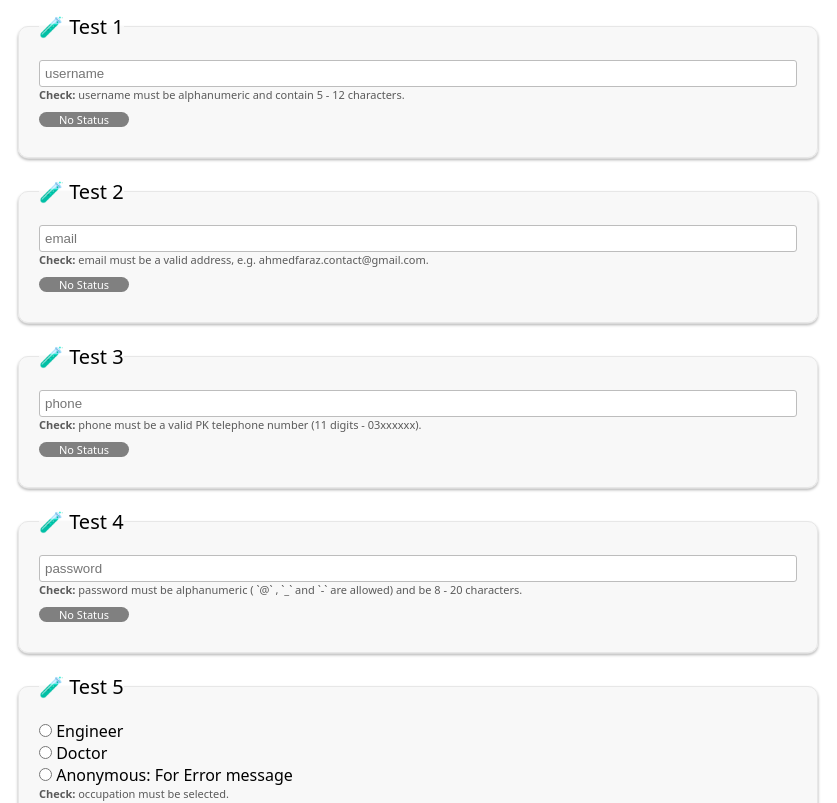
Test: Form Component › should have username section working fine
Expected: the text with test id "username-badge" is shown, [39,112,129,127]
Expected: the text with test id "username-badge" reads "No Status", [59,112,109,127]
Type "abc" into the field with test id "username" at (418, 74), box [39,60,797,87]
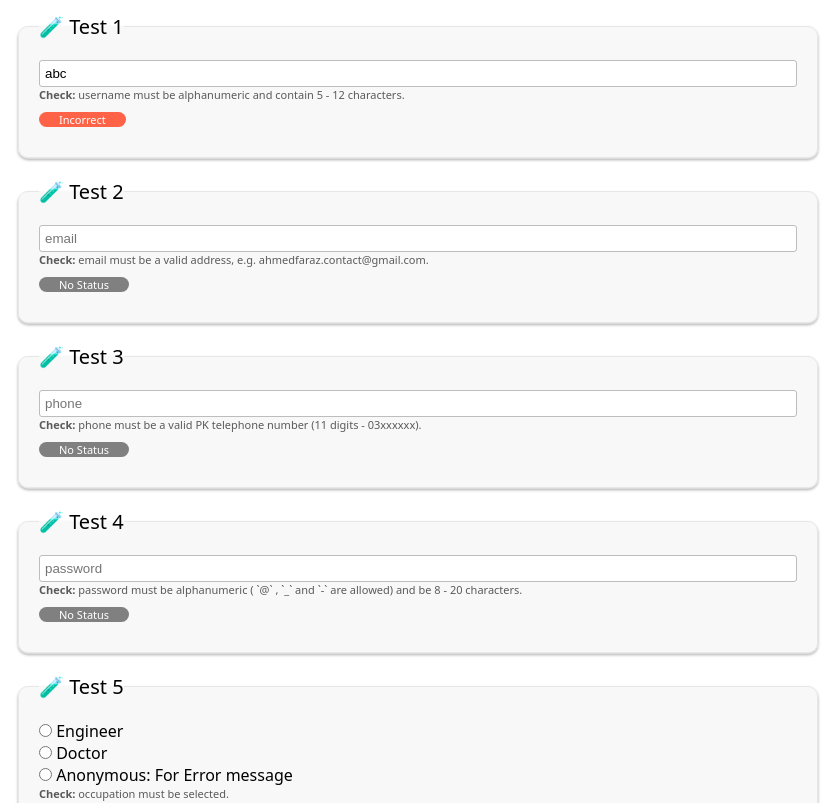
Expected: the text with test id "username-badge" reads "Incorrect", [59,112,106,127]
Replace the text in the field with test id "username" with "ahmed" at (418, 74), box [39,60,797,87]
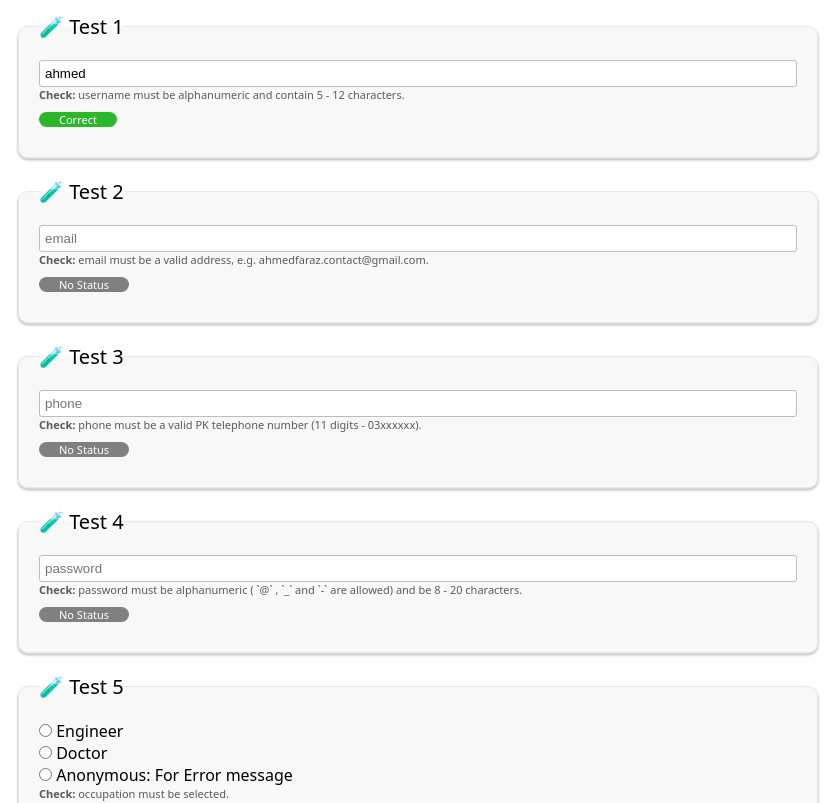
Expected: the text with test id "username-badge" reads "Correct", [59,112,97,127]
Replace the text in the field with test id "username" with "ahmed01" at (418, 74), box [39,60,797,87]
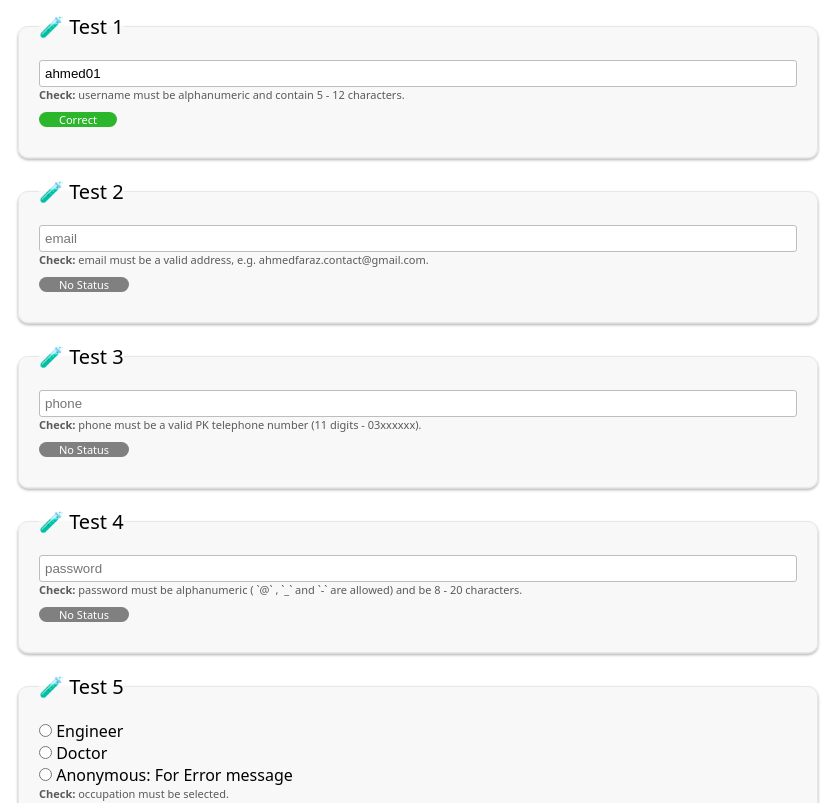
Expected: the text with test id "username-badge" reads "Correct", [59,112,97,127]
Replace the text in the field with test id "username" with "ahmed-faraz-12345" at (418, 74), box [39,60,797,87]
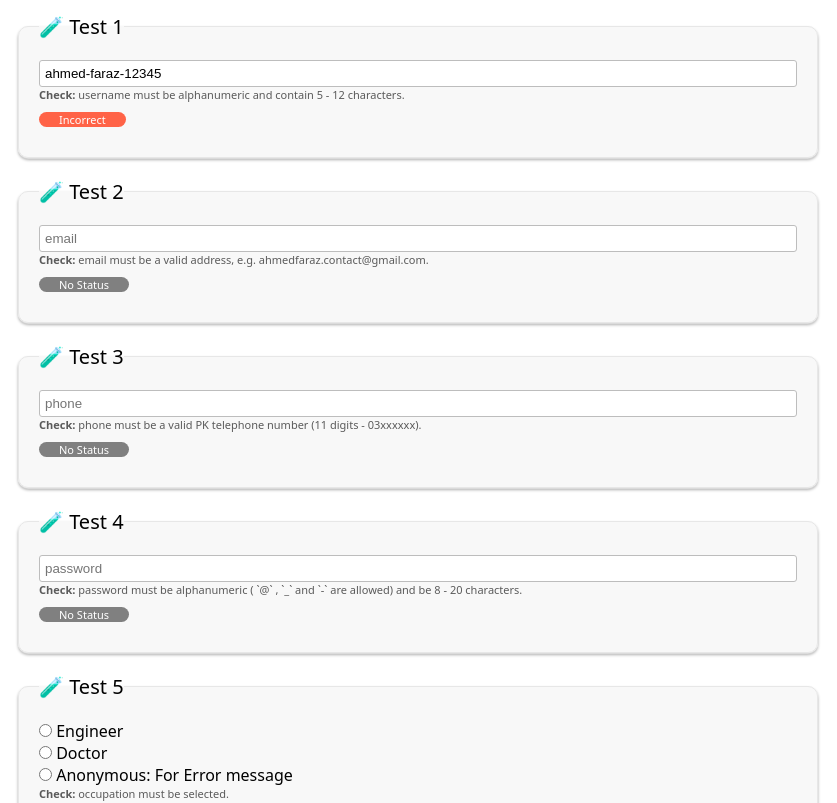
Expected: the text with test id "username-badge" reads "Incorrect", [59,112,106,127]
Clear the field with test id "username" at (418, 74), box [39,60,797,87]
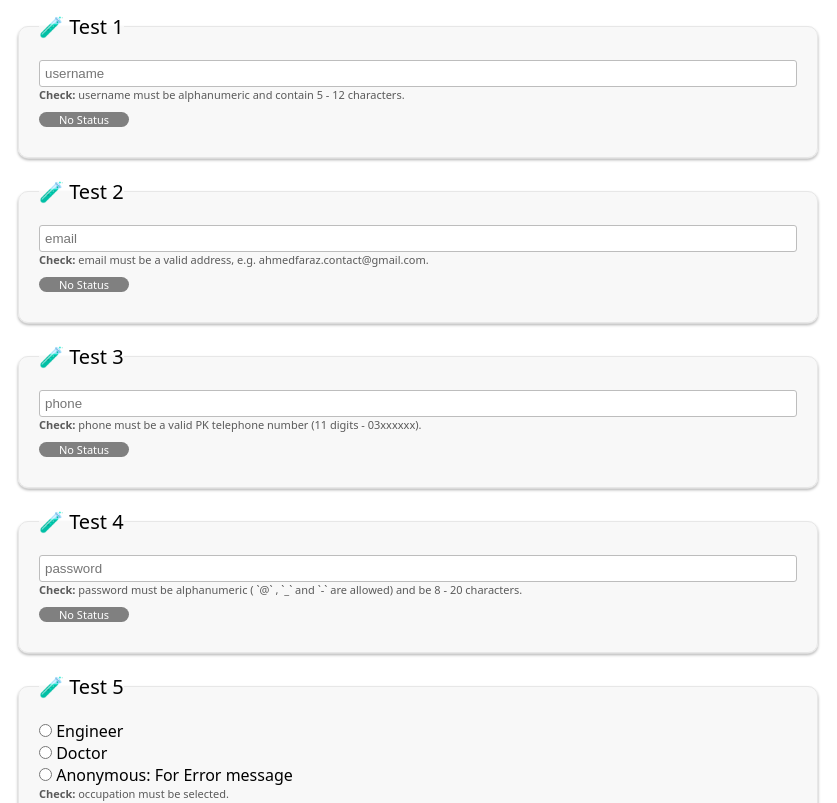
Expected: the text with test id "username-badge" reads "No Status", [59,112,109,127]
